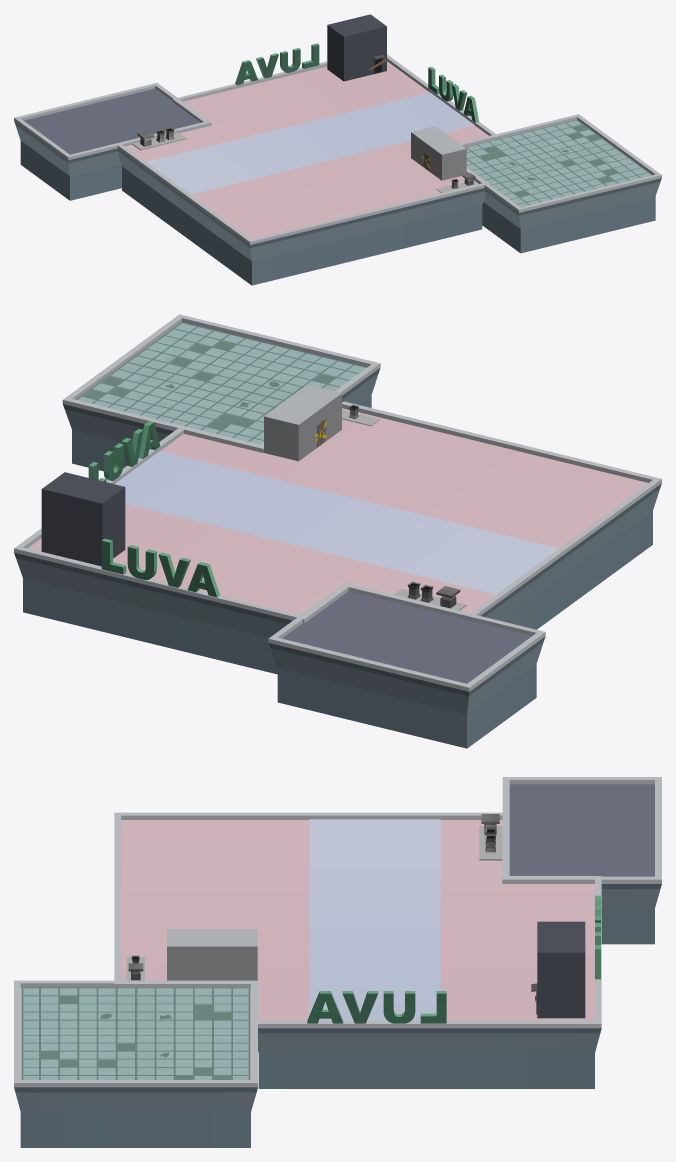
File: building-2.fbx
3 views of the same model, one above another, from view 1: azimuth 30°, elevation 25°; view 2: azimuth 150°, elevation 25°; view 3: azimuth 270°, elevation 25° (orthographic). The views are drawn at different scales.
Parts seen in each view (by area): view 1: building_1_1, pPlane1, building_1_4, building_1_2, pCube9, glass_floor_version_2, glass_floor_version_4, glass_floor_version_1, glass_floor_version_3, polySurface71, polySurface75, polySurface122 (+1 smaller); view 2: building_1_1, building_1_4, pPlane1, building_1_2, pCube9, glass_floor_version_4, glass_floor_version_2, glass_floor_version_1, polySurface71, glass_floor_version_3, polySurface75, polySurface122 (+1 smaller); view 3: building_1_1, pPlane1, building_1_4, building_1_2, glass_floor_version_3, glass_floor_version_1, glass_floor_version_2, glass_floor_version_4, pCube9, polySurface71, polySurface122, exhaust_pipe_2.
Part boxes in pixels (left/top/right/bottom): building_1_1: left=117, top=54, right=498, bottom=285; pPlane1: left=146, top=92, right=474, bottom=194; building_1_4: left=14, top=83, right=210, bottom=200; building_1_2: left=466, top=114, right=661, bottom=253; pCube9: left=327, top=14, right=386, bottom=81; glass_floor_version_2: left=510, top=120, right=615, bottom=164; glass_floor_version_4: left=550, top=148, right=652, bottom=191; glass_floor_version_1: left=485, top=165, right=584, bottom=207; glass_floor_version_3: left=465, top=136, right=548, bottom=180; polySurface71: left=411, top=126, right=466, bottom=180; polySurface75: left=235, top=43, right=319, bottom=85; polySurface122: left=428, top=67, right=479, bottom=122; building_1_1: left=14, top=401, right=661, bottom=674; building_1_4: left=268, top=583, right=545, bottom=748; pPlane1: left=114, top=451, right=558, bottom=594; building_1_2: left=62, top=314, right=380, bottom=471; pCube9: left=41, top=472, right=125, bottom=566; glass_floor_version_4: left=127, top=322, right=276, bottom=384; glass_floor_version_2: left=76, top=362, right=222, bottom=422; glass_floor_version_1: left=222, top=345, right=366, bottom=400; polySurface71: left=264, top=384, right=341, bottom=461; glass_floor_version_3: left=171, top=385, right=285, bottom=444; polySurface75: left=101, top=538, right=219, bottom=597; polySurface122: left=88, top=421, right=160, bottom=481; building_1_1: left=114, top=812, right=601, bottom=1088; pPlane1: left=309, top=819, right=440, bottom=1020; building_1_4: left=502, top=777, right=661, bottom=944; building_1_2: left=14, top=980, right=257, bottom=1147; glass_floor_version_3: left=135, top=987, right=250, bottom=1035; glass_floor_version_1: left=21, top=987, right=136, bottom=1035; glass_floor_version_2: left=135, top=1035, right=250, bottom=1079; glass_floor_version_4: left=21, top=1035, right=136, bottom=1079; pCube9: left=537, top=921, right=585, bottom=1018; polySurface71: left=167, top=929, right=257, bottom=980; polySurface122: left=307, top=991, right=446, bottom=1023; exhaust_pipe_2: left=479, top=814, right=502, bottom=860.
Bounding box in the file's own units: 8776 × 1727 × 7857.
